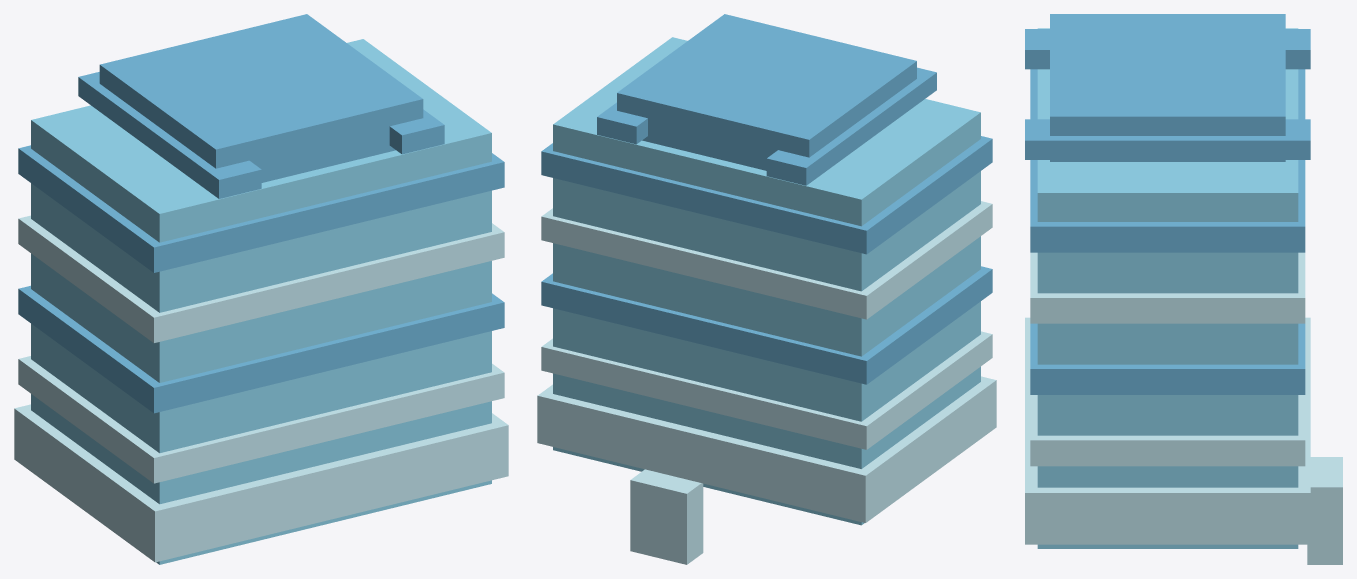
The model's file is samurai_espectral_tronco.glb.
The picture shows the model from 3 angles, left to right: view 1: azimuth 30°, elevation 25°; view 2: azimuth 150°, elevation 25°; view 3: azimuth 270°, elevation 25°; orthographic projection. The views are drawn at different scales.
Parts seen in each view (by area): view 1: samurai_espectral_tronco; view 2: samurai_espectral_tronco; view 3: samurai_espectral_tronco.
Boxes of the visible parts, x1,y1,x2,y2 form: samurai_espectral_tronco: (14, 14, 508, 564); samurai_espectral_tronco: (537, 14, 996, 564); samurai_espectral_tronco: (1025, 14, 1342, 564).
Size of the model in its own units: 0.58 by 0.725 by 0.445.
